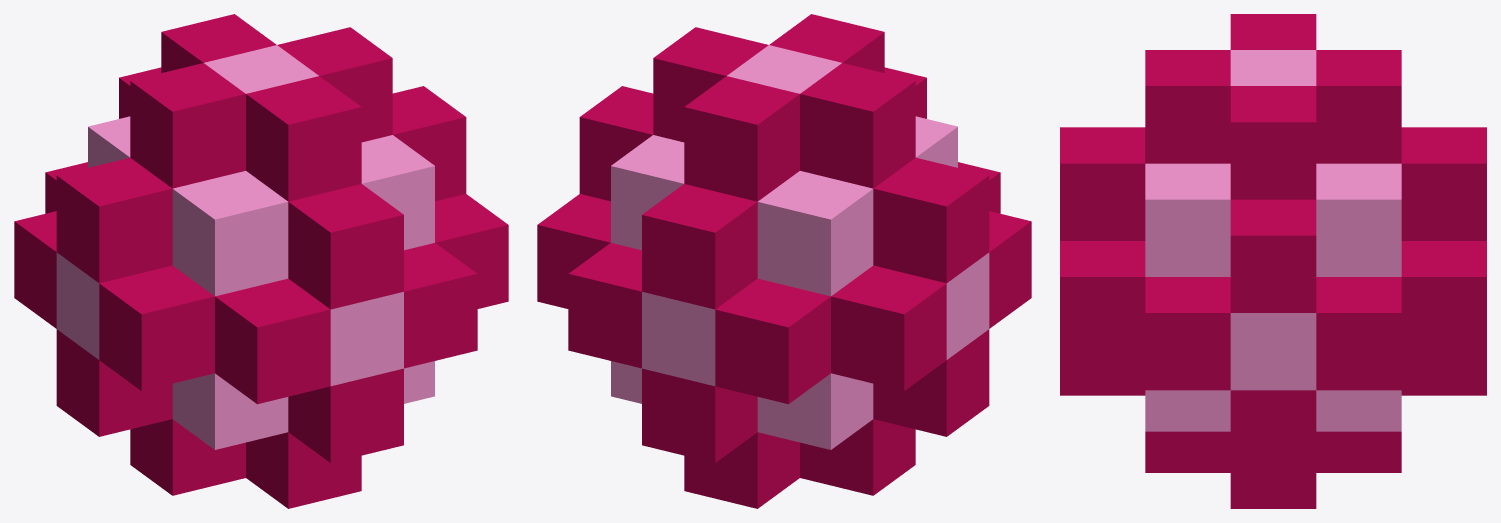
Rendered from R1Boll.obj.
The picture shows the model from 3 angles, left to right: view 1: azimuth 30°, elevation 25°; view 2: azimuth 150°, elevation 25°; view 3: azimuth 270°, elevation 25°; orthographic projection.
Bounding box in the file's own units: 5 × 5 × 5.
Materials: 1 (1 with a texture image).
